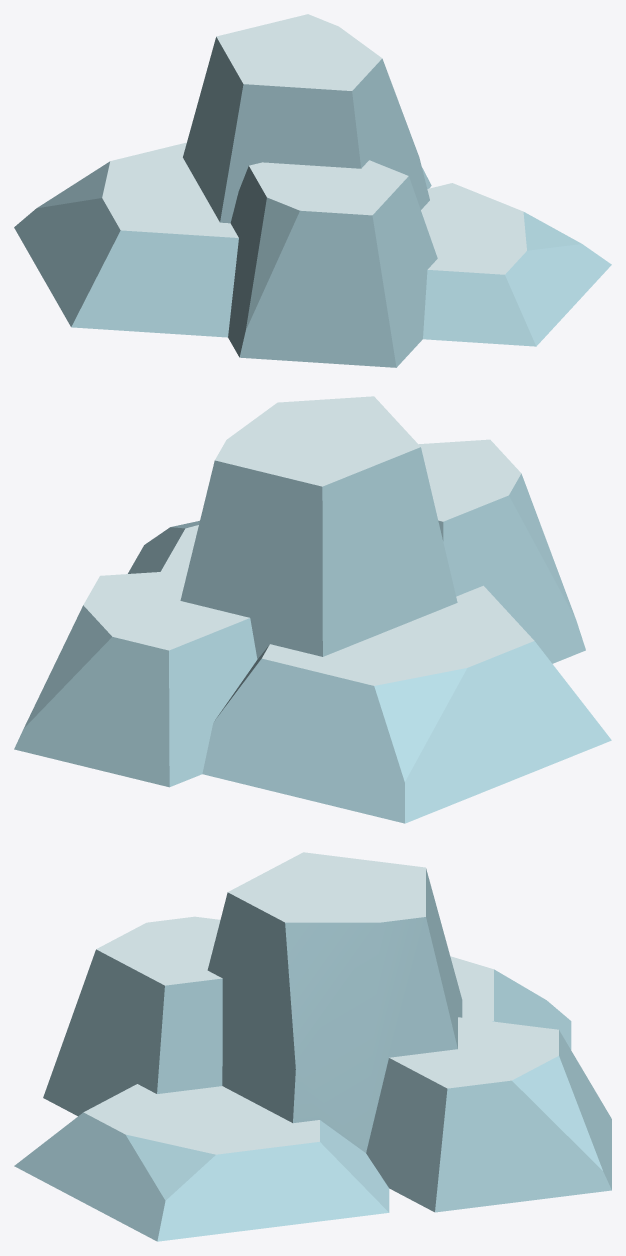
The model's file is snow_detail_rocksLarge.dae.
3 views of the same model, one above another, from view 1: azimuth 30°, elevation 25°; view 2: azimuth 150°, elevation 25°; view 3: azimuth 270°, elevation 25° (orthographic). The views are drawn at different scales.
Parts seen in each view (by area): view 1: snow_detail_rocksLarge; view 2: snow_detail_rocksLarge; view 3: snow_detail_rocksLarge.
Boxes of the visible parts, bbox=[...] form: snow_detail_rocksLarge: bbox=[14, 14, 611, 367]; snow_detail_rocksLarge: bbox=[14, 396, 611, 823]; snow_detail_rocksLarge: bbox=[14, 852, 611, 1241].
Size of the model in its own units: 1 by 0.4186 by 1.
